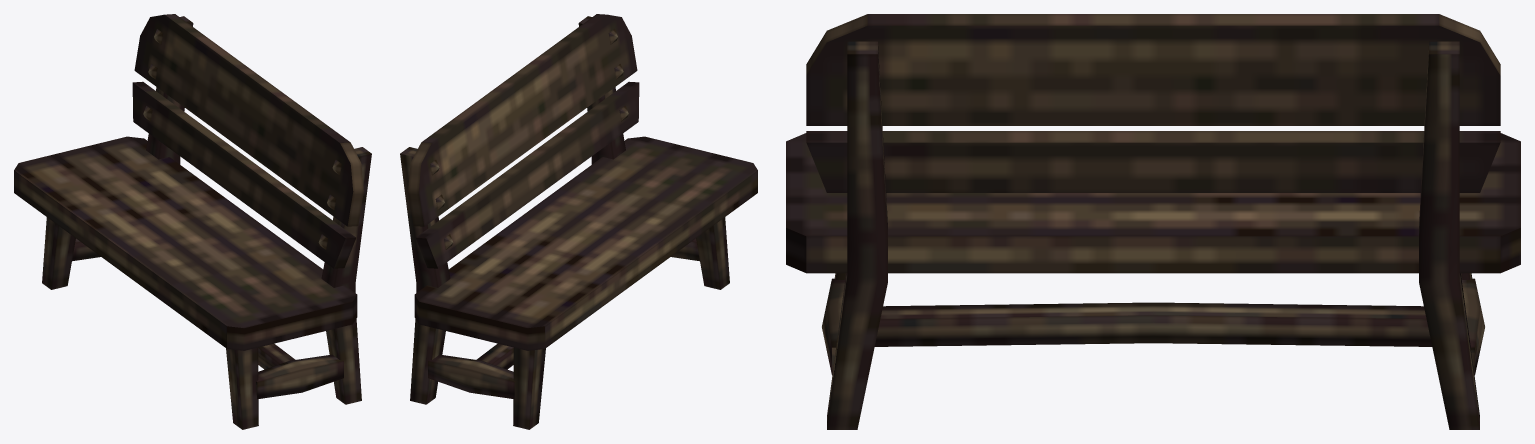
The model's file is EnvObjMD_Chair_Bench_A_M.fbx.
The picture shows the model from 3 angles, left to right: view 1: azimuth 30°, elevation 25°; view 2: azimuth 150°, elevation 25°; view 3: azimuth 270°, elevation 25°; orthographic projection. The views are drawn at different scales.
Visible parts, largest first — view 1: EnvObjMD_Chair_Bench_A_M; view 2: EnvObjMD_Chair_Bench_A_M; view 3: EnvObjMD_Chair_Bench_A_M.
Part boxes in pixels (x1=…): EnvObjMD_Chair_Bench_A_M: x1=14, y1=14, x2=371, y2=429; EnvObjMD_Chair_Bench_A_M: x1=400, y1=14, x2=757, y2=429; EnvObjMD_Chair_Bench_A_M: x1=786, y1=14, x2=1520, y2=429.
Size of the model in its own units: 78.21 by 119 by 194.
